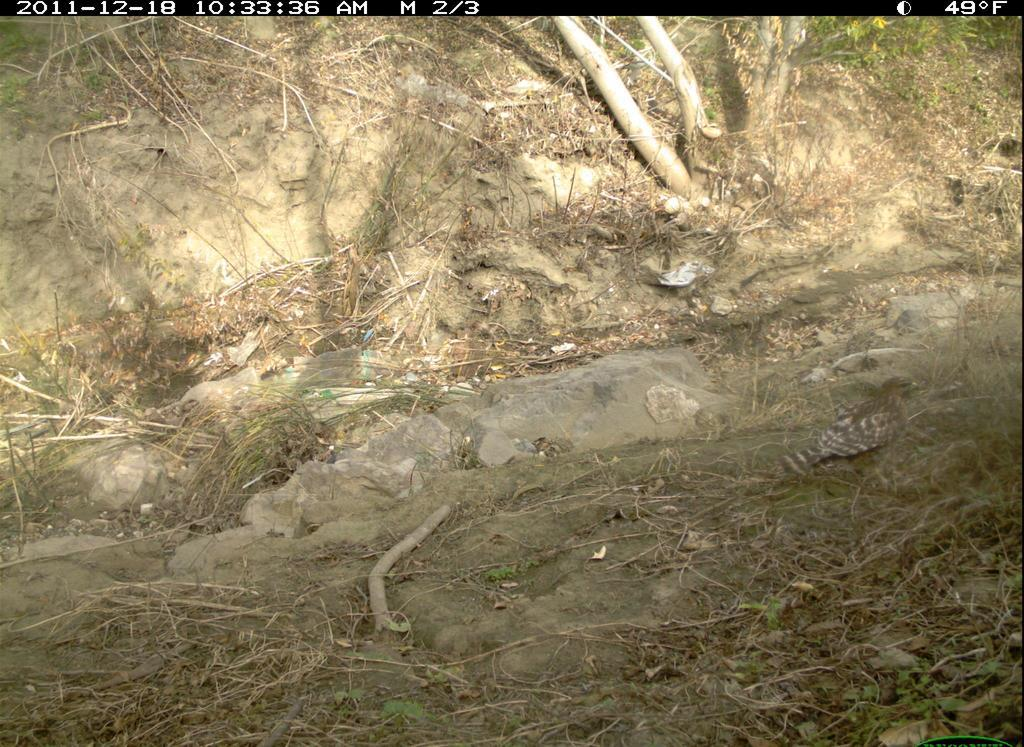bird: (753, 363, 971, 506)
